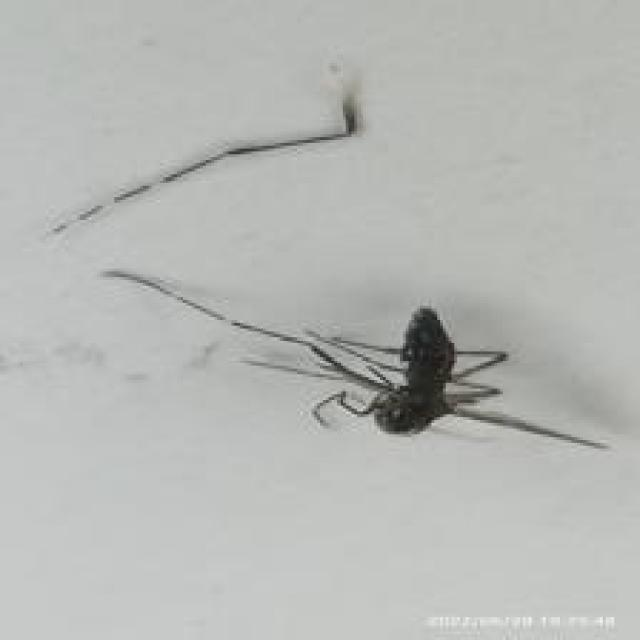Aedes albopictus: (103, 267, 611, 453)
